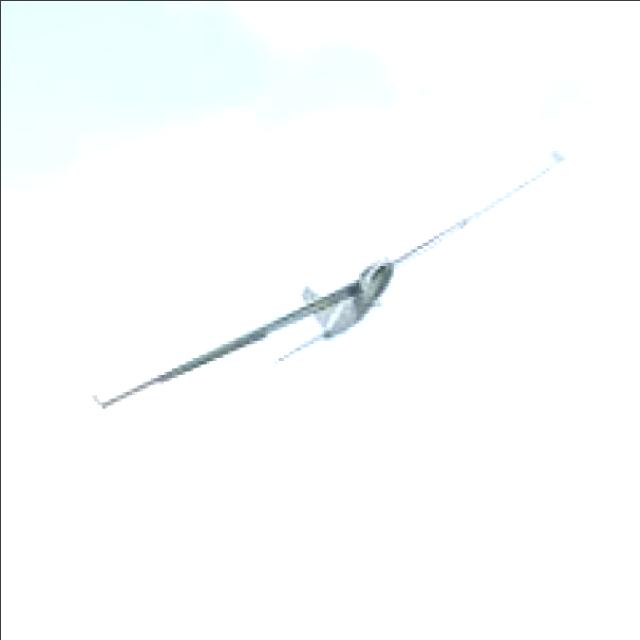plane: (84, 146, 571, 417)
